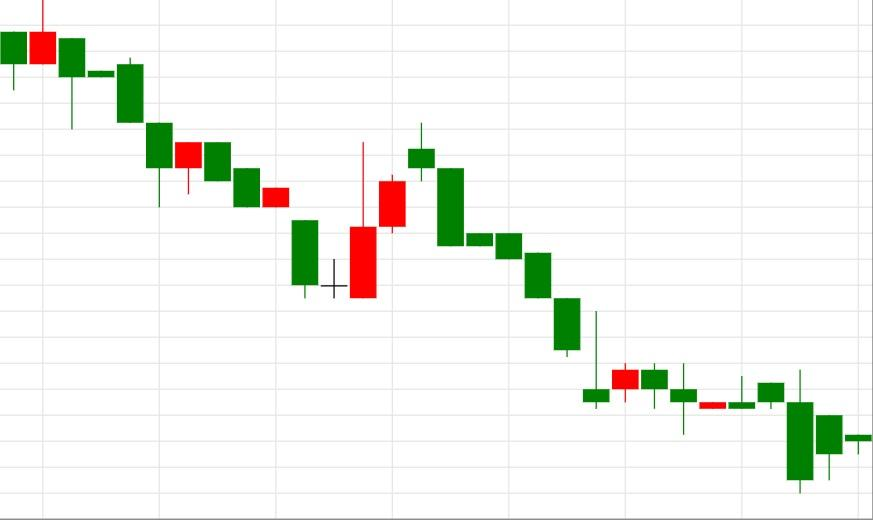morning_star_rise: (0, 0, 378, 300)
